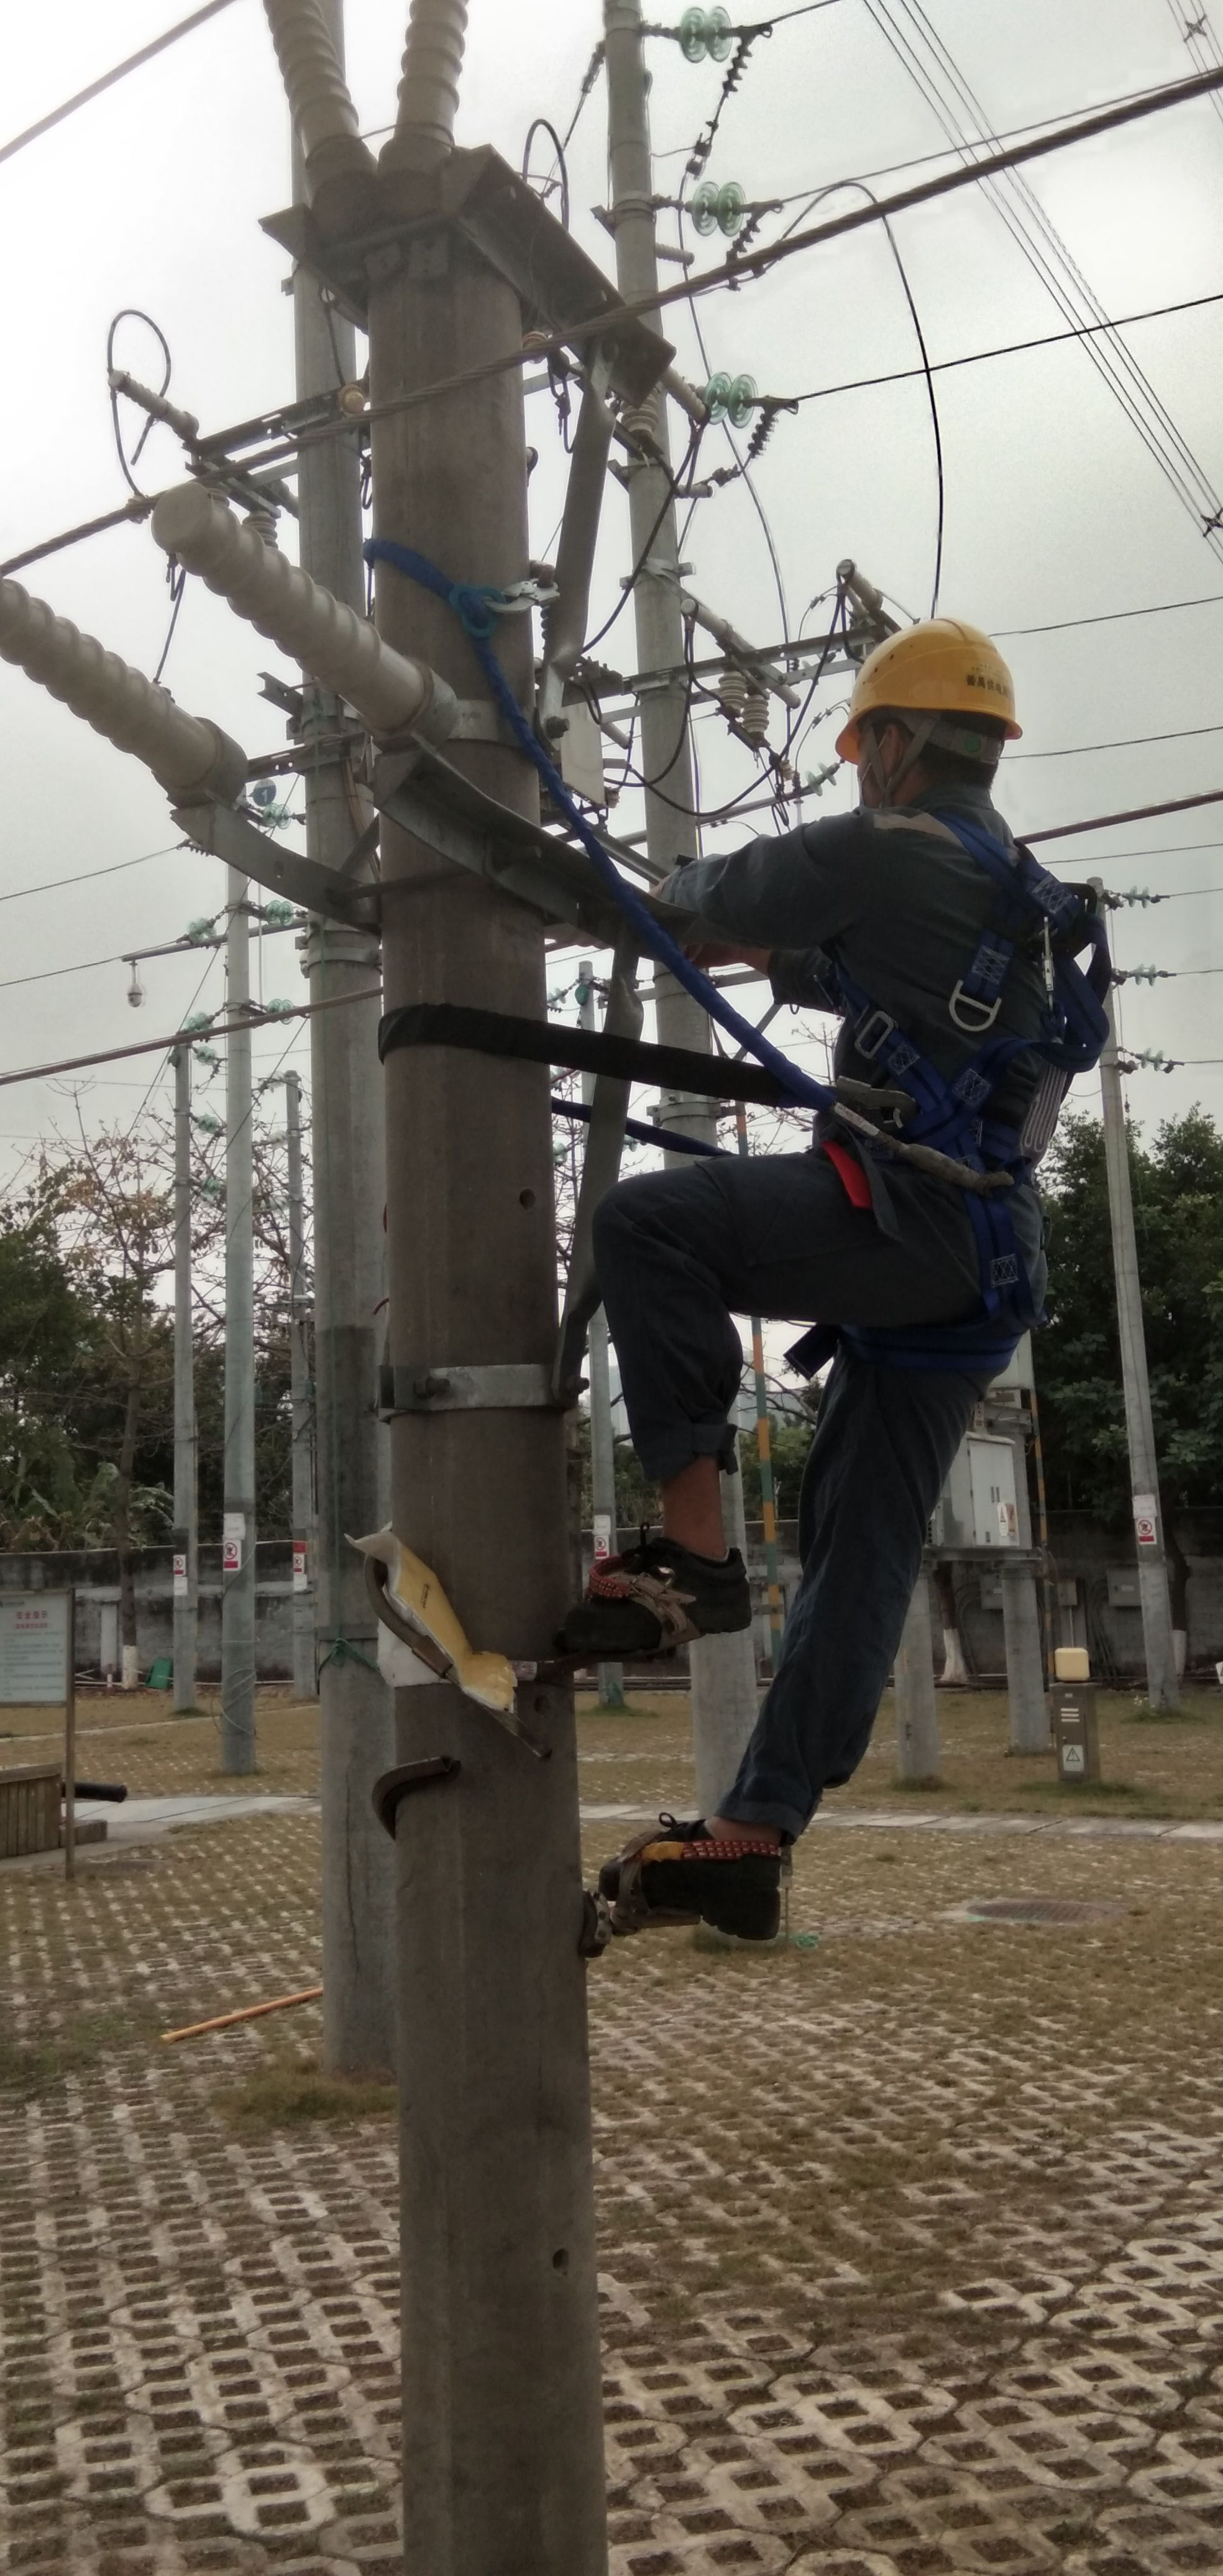downsuit: (591, 1148, 1006, 1827)
upsuit: (666, 798, 1079, 1142)
wrongbottom: (639, 1393, 747, 1569)
